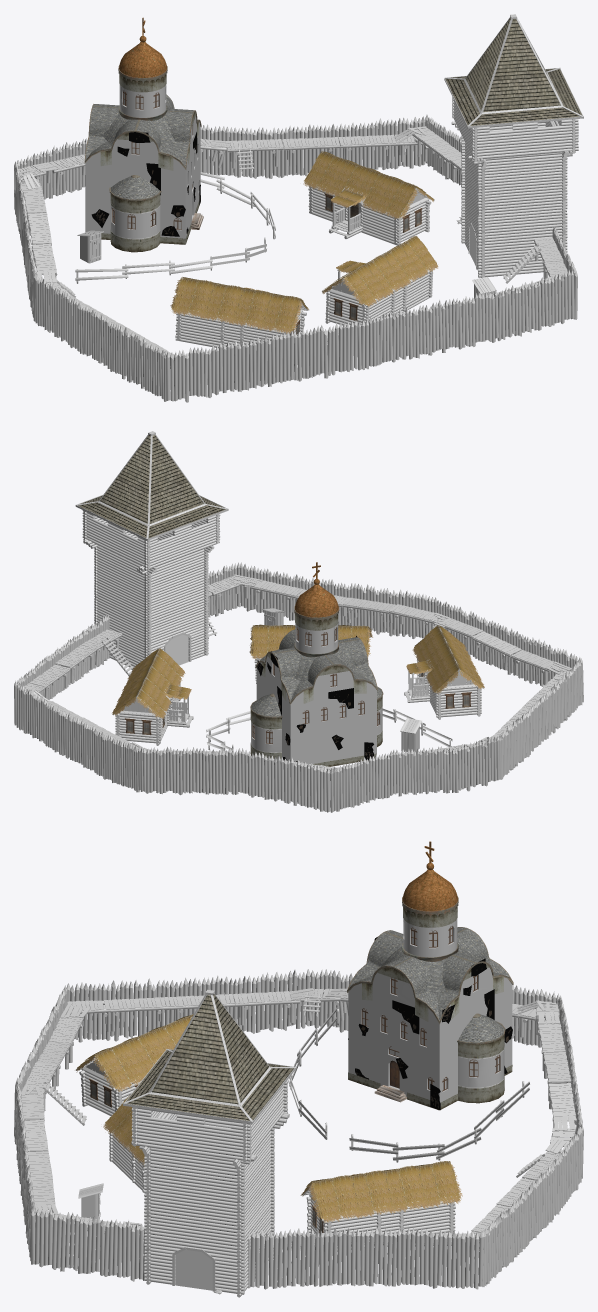
The model's file is Village.fbx.
The picture shows the model from 3 angles, top to bottom: view 1: azimuth 30°, elevation 25°; view 2: azimuth 150°, elevation 25°; view 3: azimuth 270°, elevation 25°; orthographic projection. The views are drawn at different scales.
Visible parts, largest first — view 1: Object_359, Object_151, Object_362, Object_181, Object_360, Object_92, Object_87, Object_163, Object_137, Object_812, Object_669, Object_816 (+28 smaller); view 2: Object_359, Object_362, Object_181, Object_90, Object_360, Object_145, Object_154, Object_87, Object_160, Object_166, Object_92, Object_81 (+14 smaller); view 3: Object_359, Object_362, Object_148, Object_181, Object_90, Object_360, Object_87, Object_157, Object_92, Object_154, Object_137, Object_641 (+25 smaller).
Part boxes in pixels (<box>): Object_359: <box>14,119,577,402</box>; Object_151: <box>468,151,575,277</box>; Object_362: <box>18,126,567,368</box>; Object_181: <box>445,18,581,125</box>; Object_360: <box>14,114,577,358</box>; Object_92: <box>85,139,185,244</box>; Object_87: <box>85,95,197,166</box>; Object_163: <box>472,119,578,159</box>; Object_137: <box>75,172,275,283</box>; Object_812: <box>178,277,300,311</box>; Object_669: <box>314,151,416,197</box>; Object_816: <box>174,293,296,326</box>; Object_359: <box>14,567,583,812</box>; Object_362: <box>24,574,571,772</box>; Object_181: <box>78,435,225,538</box>; Object_90: <box>290,671,376,763</box>; Object_360: <box>14,562,582,773</box>; Object_145: <box>137,549,208,660</box>; Object_154: <box>94,545,156,668</box>; Object_87: <box>260,629,376,701</box>; Object_160: <box>145,514,220,570</box>; Object_166: <box>82,510,148,568</box>; Object_92: <box>256,656,290,761</box>; Object_81: <box>295,584,338,617</box>; Object_359: <box>14,974,583,1289</box>; Object_362: <box>21,988,576,1265</box>; Object_148: <box>139,1146,256,1294</box>; Object_181: <box>126,994,293,1120</box>; Object_90: <box>348,973,439,1099</box>; Object_360: <box>15,969,583,1240</box>; Object_87: <box>349,927,510,1019</box>; Object_157: <box>131,1107,250,1161</box>; Object_92: <box>439,967,512,1102</box>; Object_154: <box>233,1130,271,1296</box>; Object_137: <box>288,1007,529,1162</box>; Object_641: <box>312,1161,453,1196</box>.
Bounding box in the file's own units: 3805 × 1815 × 3287.
